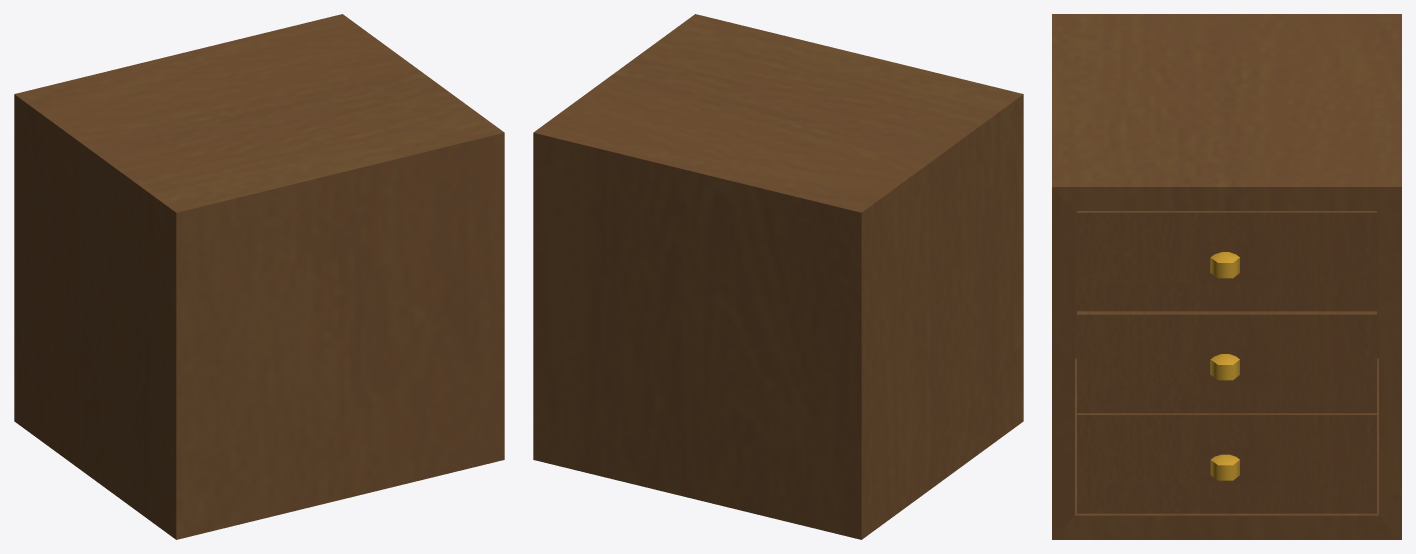
Rendered from fbx_drawer.fbx.
3 views of the same model, side by side, from view 1: azimuth 30°, elevation 25°; view 2: azimuth 150°, elevation 25°; view 3: azimuth 270°, elevation 25° (orthographic). The views are drawn at different scales.
Parts seen in each view (by area): view 1: DrawerFrame; view 2: DrawerFrame; view 3: DrawerFrame, pasted__drawer (×2), drawer, pasted__handle (×2), handle.
Boxes of the visible parts, x1,y1,x2,y2 form: DrawerFrame: (14,14,504,539); DrawerFrame: (533,14,1023,539); DrawerFrame: (1052,14,1401,539); pasted__drawer (×2): (1077,211,1376,413); drawer: (1077,413,1376,513); pasted__handle (×2): (1210,252,1239,380); handle: (1210,454,1239,480).
Size of the model in its own units: 0.4431 by 0.4033 by 0.3623.
